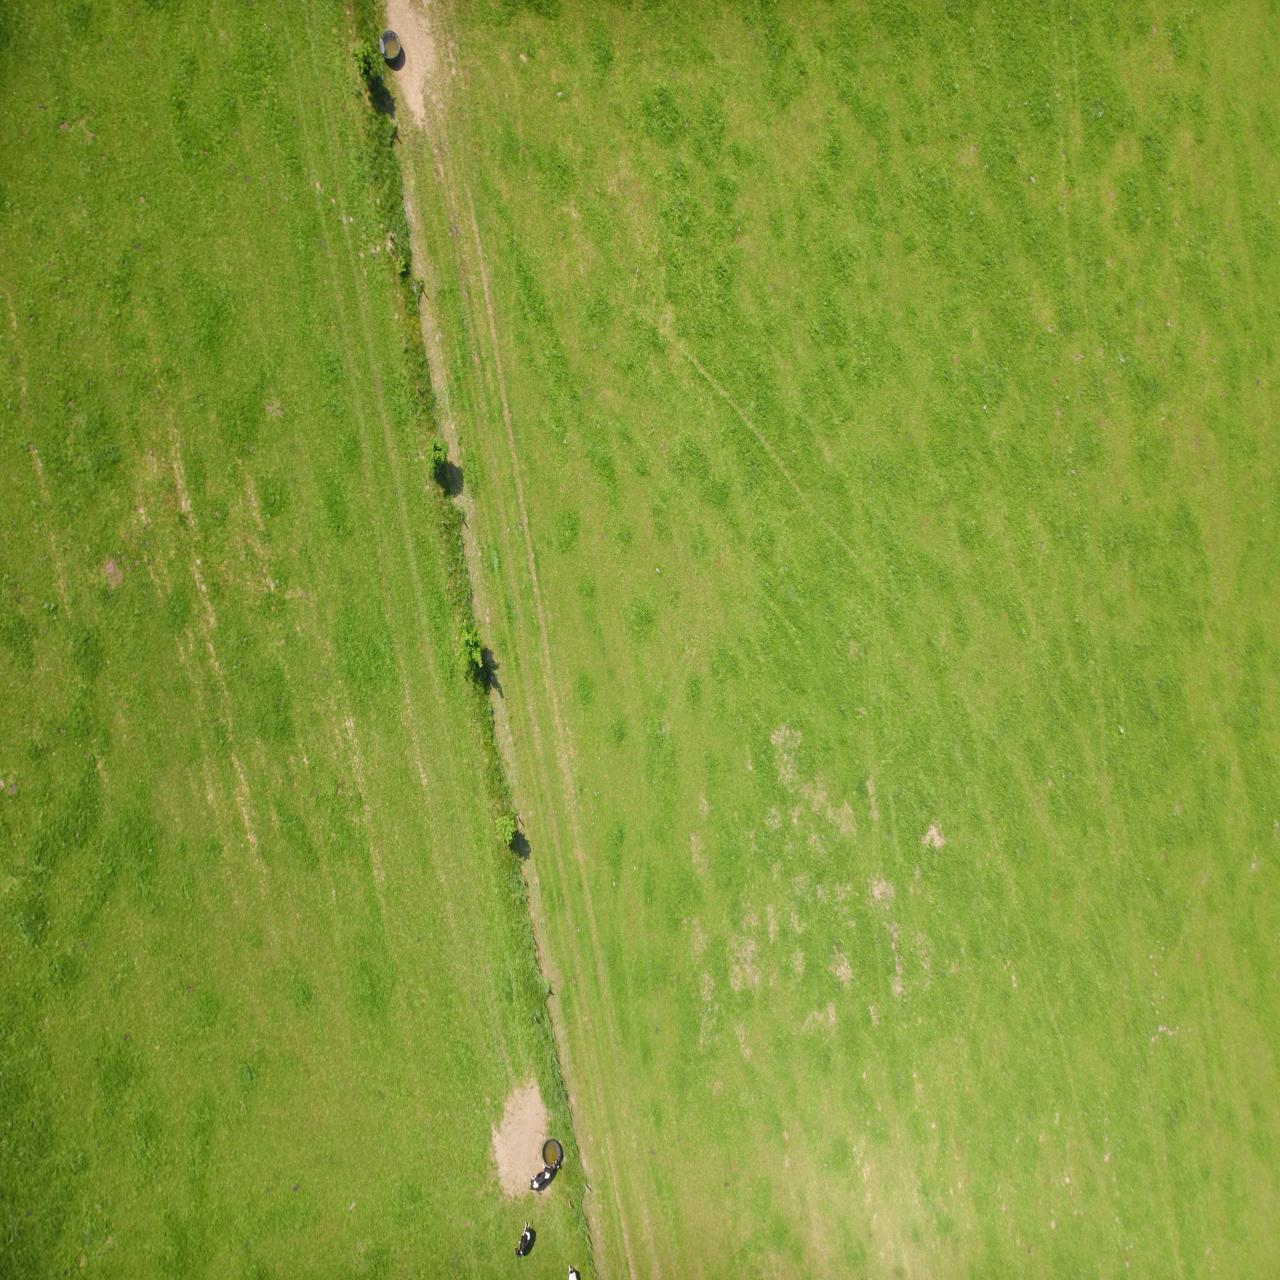cow: (718, 84, 750, 120), (749, 22, 766, 59)
